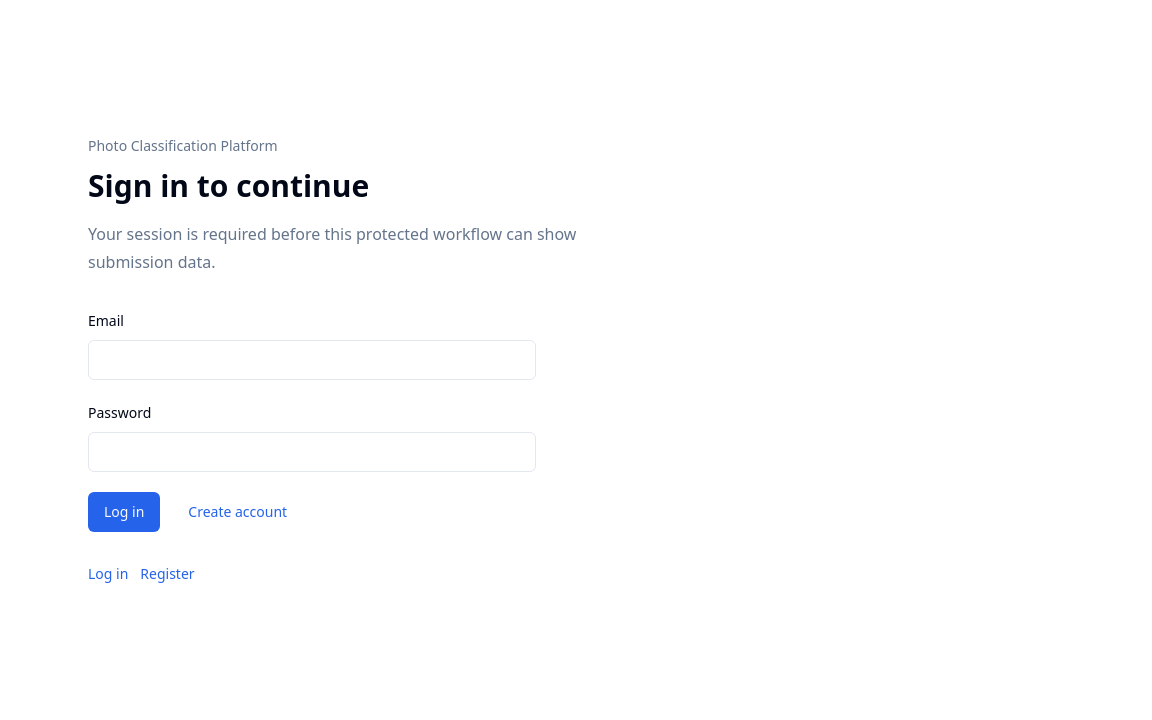
auth form accessibility › submits the login form from the keyboard
In the field labelled "Email": (312, 360) [88,340,536,380], type "user@example.com"
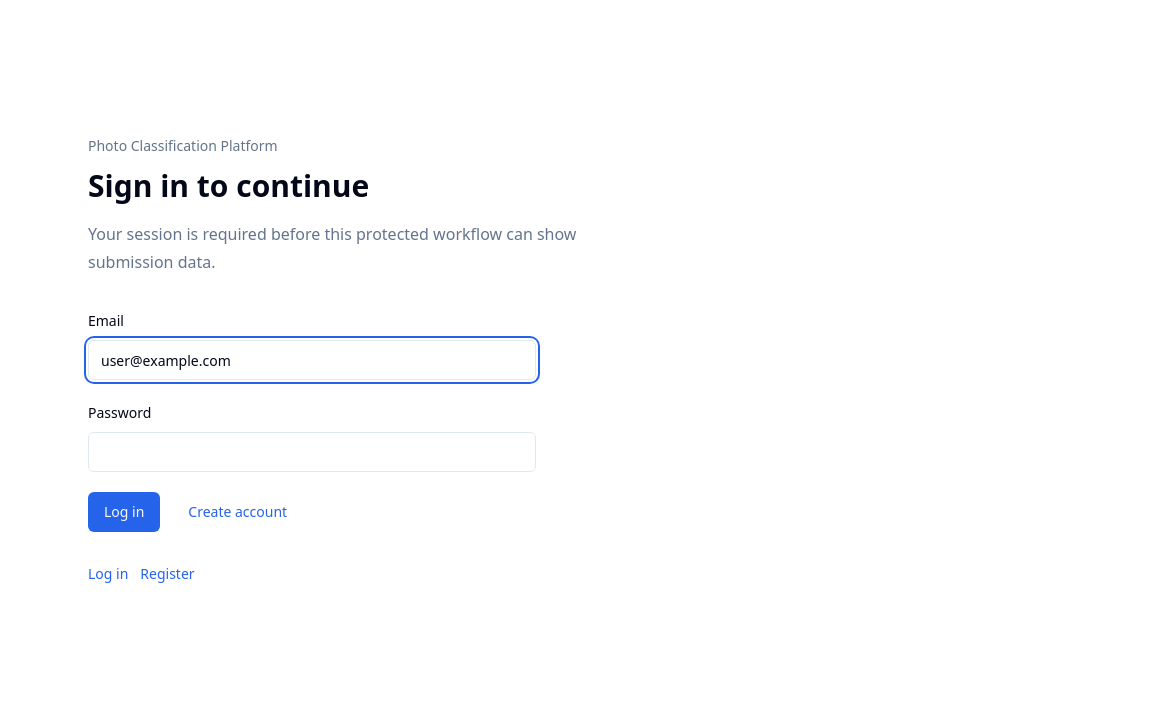
In the password field labelled "Password": (312, 452) [88,432,536,472], type "StrongPassword123!"
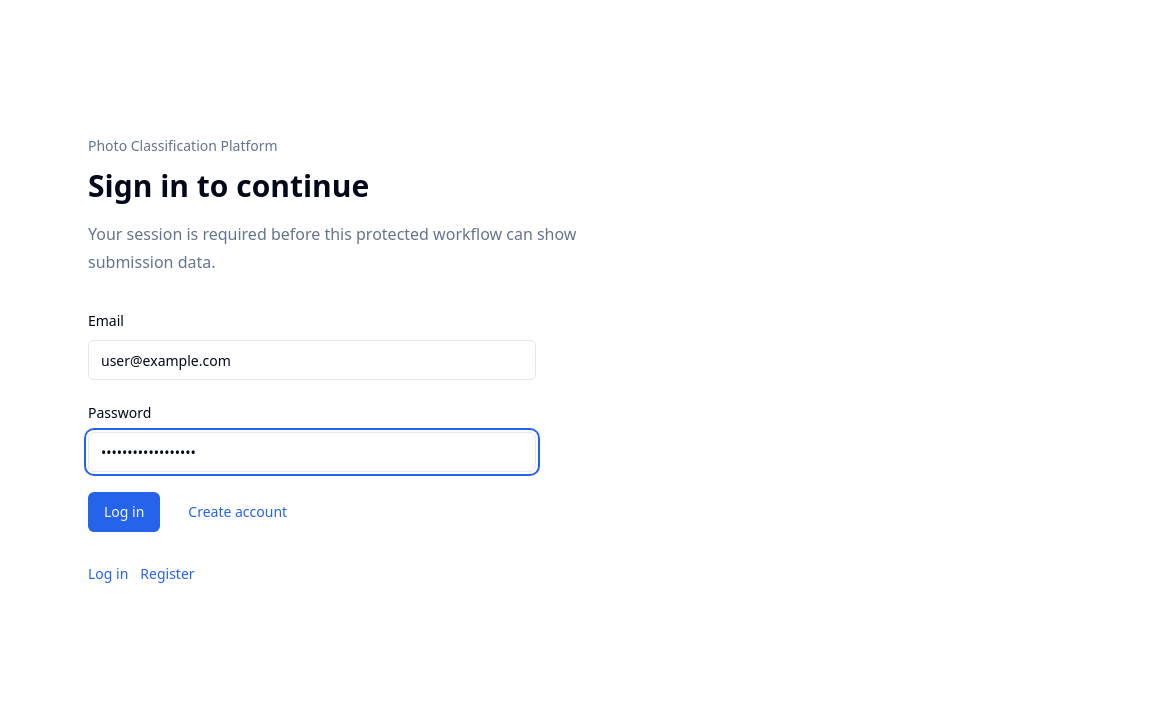
Press Enter
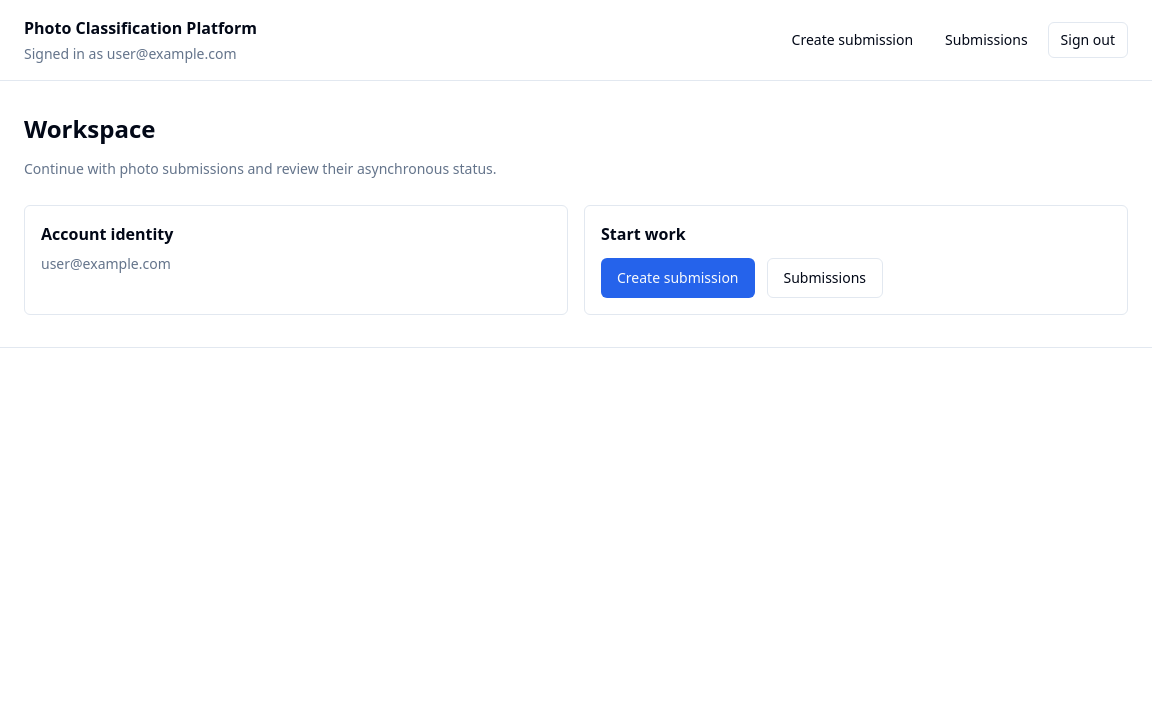
expect the heading "Workspace" is shown: met, box [24,112,156,145]
